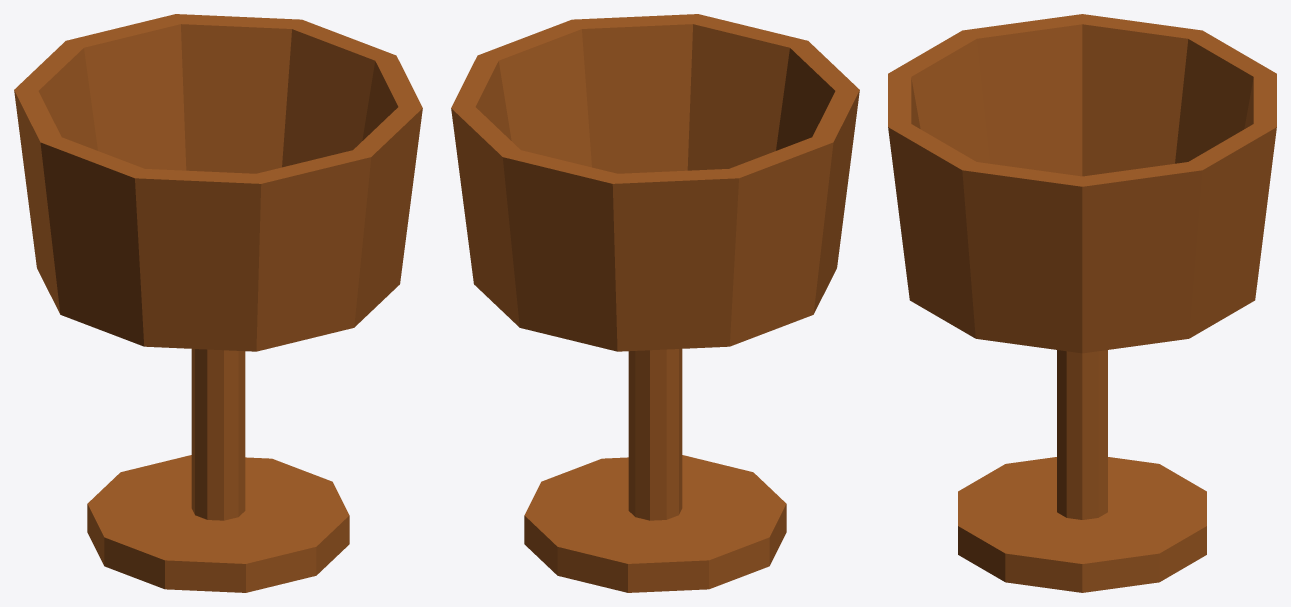
File: SM_cup_06.FBX
3 views of the same model, side by side, from view 1: azimuth 30°, elevation 25°; view 2: azimuth 150°, elevation 25°; view 3: azimuth 270°, elevation 25° (orthographic).
Parts seen in each view (by area): view 1: Object105; view 2: Object105; view 3: Object105.
Boxes of the visible parts, x1=… form: Object105: x1=14, y1=14, x2=422, y2=592; Object105: x1=451, y1=14, x2=859, y2=592; Object105: x1=888, y1=14, x2=1276, y2=592.
Bounding box in the file's own units: 23.72 × 27.99 × 22.56.
